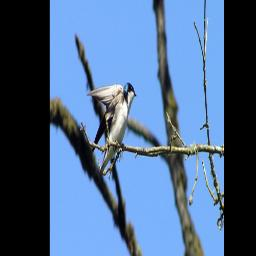Swallow: (86, 80, 137, 183)
